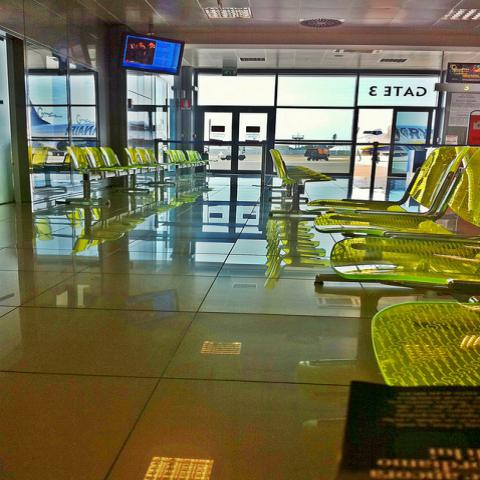truck: (305, 148, 330, 161), (219, 150, 246, 161)
